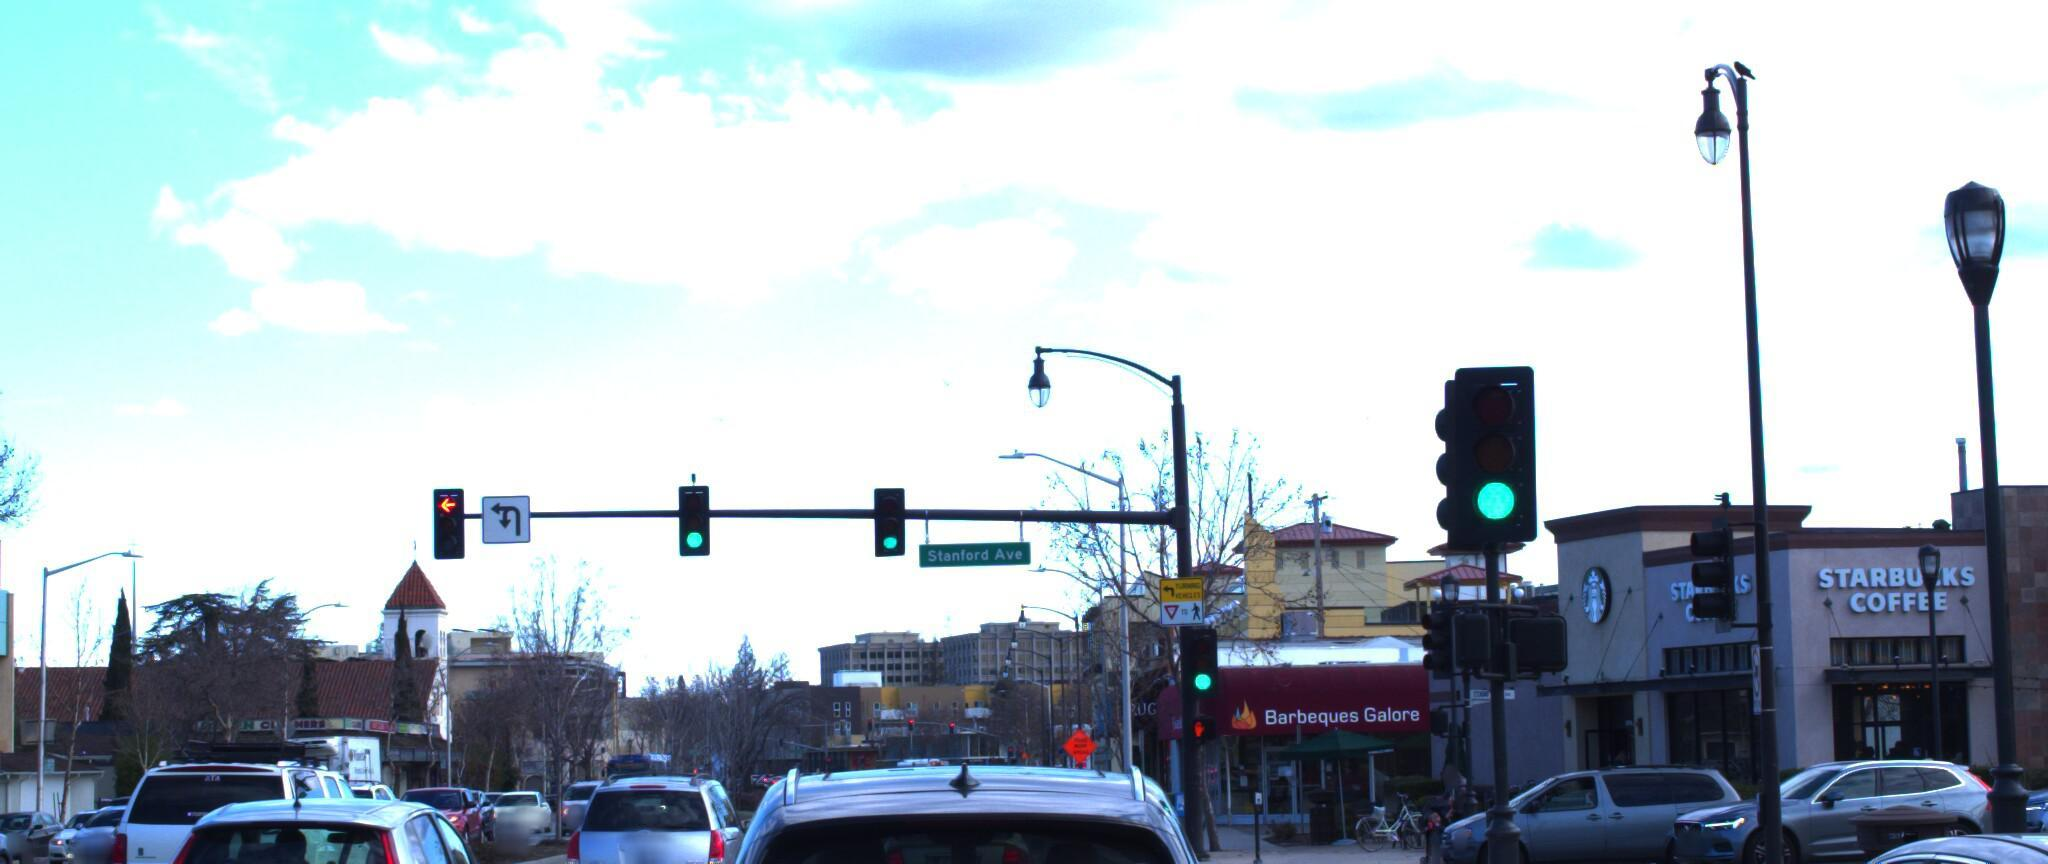bicycle: (1324, 769, 1430, 835)
car: (596, 735, 1311, 864), (1624, 739, 2005, 864), (1405, 740, 1742, 864), (1552, 782, 2048, 864), (110, 777, 556, 864), (99, 737, 396, 864), (562, 752, 760, 864), (1889, 733, 2048, 851), (358, 766, 474, 844), (0, 778, 27, 864)
